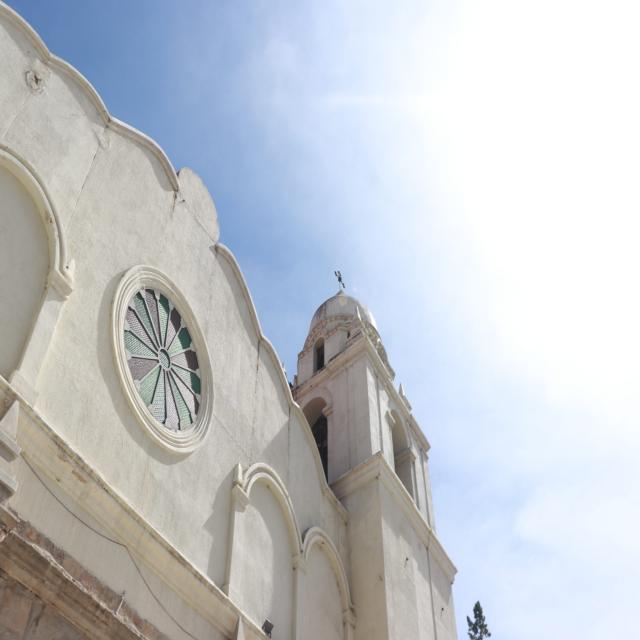CAMPANARIO: (270, 368, 454, 538)
CUPULA: (284, 285, 404, 382)
colonial-architecture-: (0, 0, 486, 640)
